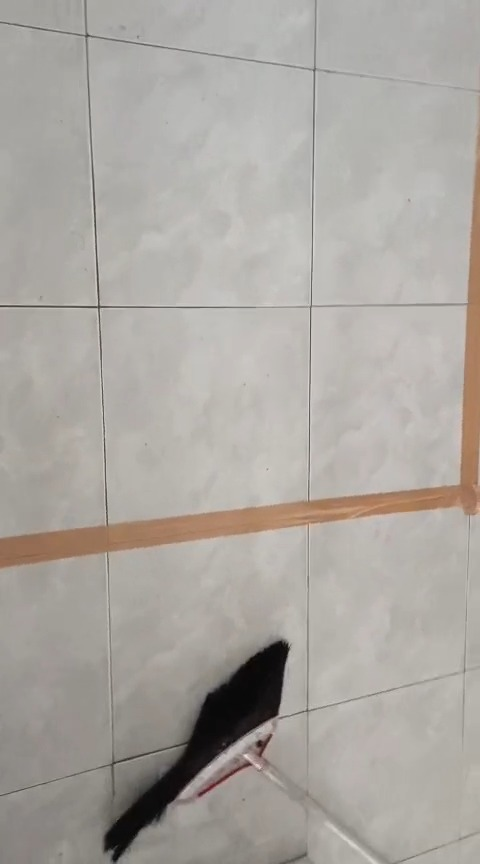floor marking: (2, 126, 479, 566)
